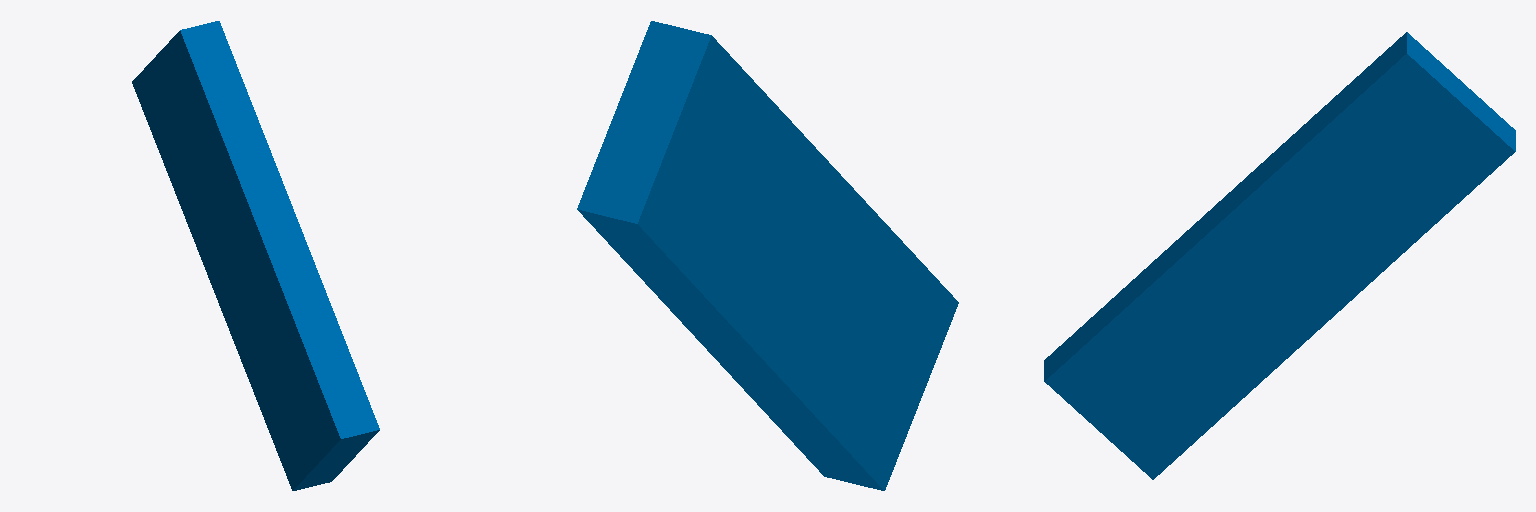
URDF robot description (panda):
<?xml version="1.0" ?>
<!-- =================================================================================== -->
<!-- |    This document was autogenerated by xacro from panda_arm_hand.urdf.xacro      | -->
<!-- |    EDITING THIS FILE BY HAND IS NOT RECOMMENDED                                 | -->
<!-- =================================================================================== -->
<robot name="panda" xmlns:xacro="http://www.ros.org/wiki/xacro">
  <link name="panda_link0">
    <visual>
      <geometry>
        <mesh filename="package:///meshes/visual/link0.dae"/>
      </geometry>
    </visual>
    <collision>
      <geometry>
        <mesh filename="package:///meshes/collision/link0.stl"/>
      </geometry>
    </collision>
    <inertial>
      <origin rpy="0 0 0" xyz="0 0 0"/>
      <mass value="2.8142028896"/>
      <inertia ixx="0.0129886979" ixy="0.0" ixz="0.0" iyy="0.0165355284" iyz="0" izz="0.0203311636"/>
    </inertial>
  </link>
  <link name="panda_link1">
    <visual>
      <geometry>
        <mesh filename="package:///meshes/visual/link1.dae"/>
      </geometry>
    </visual>
    <collision>
      <geometry>
        <mesh filename="package:///meshes/collision/link1.stl"/>
      </geometry>
    </collision>
    <inertial>
      <origin rpy="0 0 0" xyz="0 0 0"/>
      <mass value="2.3599995791"/>
      <inertia ixx="0.0186863903" ixy="0.0" ixz="0.0" iyy="0.0143789874" iyz="0" izz="0.00906812"/>
    </inertial>
  </link>
  <joint name="panda_joint1" type="revolute">
    <safety_controller k_position="100.0" k_velocity="40.0" soft_lower_limit="-2.8973" soft_upper_limit="2.8973"/>
    <origin rpy="0 0 0" xyz="0 0 0.333"/>
    <parent link="panda_link0"/>
    <child link="panda_link1"/>
    <axis xyz="0 0 1"/>
    <limit effort="87" lower="-2.8973" upper="2.8973" velocity="2.1750"/>
  </joint>
  <link name="panda_link2">
    <visual>
      <geometry>
        <mesh filename="package:///meshes/visual/link2.dae"/>
      </geometry>
    </visual>
    <collision>
      <geometry>
        <mesh filename="package:///meshes/collision/link2.stl"/>
      </geometry>
    </collision>
    <inertial>
      <origin rpy="0 0 0" xyz="0 0 0"/>
      <mass value="2.379518833"/>
      <inertia ixx="0.0190388734" ixy="0.0" ixz="0.0" iyy="0.0091429124" iyz="0" izz="0.014697537"/>
    </inertial>
  </link>
  <joint name="panda_joint2" type="revolute">
    <safety_controller k_position="100.0" k_velocity="40.0" soft_lower_limit="-1.7628" soft_upper_limit="1.7628"/>
    <origin rpy="-1.57079632679 0 0" xyz="0 0 0"/>
    <parent link="panda_link1"/>
    <child link="panda_link2"/>
    <axis xyz="0 0 1"/>
    <limit effort="87" lower="-1.7628" upper="1.7628" velocity="2.1750"/>
  </joint>
  <link name="panda_link3">
    <visual>
      <geometry>
        <mesh filename="package:///meshes/visual/link3.dae"/>
      </geometry>
    </visual>
    <collision>
      <geometry>
        <mesh filename="package:///meshes/collision/link3.stl"/>
      </geometry>
    </collision>
    <inertial>
      <origin rpy="0 0 0" xyz="0 0 0"/>
      <mass value="2.6498823337"/>
      <inertia ixx="0.0129300178" ixy="0.0" ixz="0.0" iyy="0.0150242121" iyz="0" izz="0.0142734598"/>
    </inertial>
  </link>
  <joint name="panda_joint3" type="revolute">
    <safety_controller k_position="100.0" k_velocity="40.0" soft_lower_limit="-2.8973" soft_upper_limit="2.8973"/>
    <origin rpy="1.57079632679 0 0" xyz="0 -0.316 0"/>
    <parent link="panda_link2"/>
    <child link="panda_link3"/>
    <axis xyz="0 0 1"/>
    <limit effort="87" lower="-2.8973" upper="2.8973" velocity="2.1750"/>
  </joint>
  <link name="panda_link4">
    <visual>
      <geometry>
        <mesh filename="package:///meshes/visual/link4.dae"/>
      </geometry>
    </visual>
    <collision>
      <geometry>
        <mesh filename="package:///meshes/collision/link4.stl"/>
      </geometry>
    </collision>
    <inertial>
      <origin rpy="0 0 0" xyz="0 0 0"/>
      <mass value="2.6948018744"/>
      <inertia ixx="0.0133874611" ixy="0.0" ixz="0.0" iyy="0.014514325" iyz="0" izz="0.0155175551"/>
    </inertial>
  </link>
  <joint name="panda_joint4" type="revolute">
    <safety_controller k_position="100.0" k_velocity="40.0" soft_lower_limit="-3.0718" soft_upper_limit="-0.0698"/>
    <origin rpy="1.57079632679 0 0" xyz="0.0825 0 0"/>
    <parent link="panda_link3"/>
    <child link="panda_link4"/>
    <axis xyz="0 0 1"/>
    <limit effort="87" lower="-3.0718" upper="-0.0698" velocity="2.1750"/>
  </joint>
  <link name="panda_link5">
    <visual>
      <geometry>
        <mesh filename="package:///meshes/visual/link5.dae"/>
      </geometry>
    </visual>
    <collision>
      <geometry>
        <mesh filename="package:///meshes/collision/link5.stl"/>
      </geometry>
    </collision>
    <inertial>
      <origin rpy="0 0 0" xyz="0 0 0"/>
      <mass value="2.9812816864"/>
      <inertia ixx="0.0325565705" ixy="0.0" ixz="0.0" iyy="0.0270660472" iyz="0" izz="0.0115023375"/>
    </inertial>
  </link>
  <joint name="panda_joint5" type="revolute">
    <safety_controller k_position="100.0" k_velocity="40.0" soft_lower_limit="-2.8973" soft_upper_limit="2.8973"/>
    <origin rpy="-1.57079632679 0 0" xyz="-0.0825 0.384 0"/>
    <parent link="panda_link4"/>
    <child link="panda_link5"/>
    <axis xyz="0 0 1"/>
    <limit effort="12" lower="-2.8973" upper="2.8973" velocity="2.6100"/>
  </joint>
  <link name="panda_link6">
    <visual>
      <geometry>
        <mesh filename="package:///meshes/visual/link6.dae"/>
      </geometry>
    </visual>
    <collision>
      <geometry>
        <mesh filename="package:///meshes/collision/link6.stl"/>
      </geometry>
    </collision>
    <inertial>
      <origin rpy="0 0 0" xyz="0 0 0"/>
      <mass value="1.1285806309"/>
      <inertia ixx="0.0026052565" ixy="0.0" ixz="0.0" iyy="0.0039897229" iyz="0" izz="0.0047048591"/>
    </inertial>
  </link>
  <joint name="panda_joint6" type="revolute">
    <safety_controller k_position="100.0" k_velocity="40.0" soft_lower_limit="-0.0175" soft_upper_limit="3.7525"/>
    <origin rpy="1.57079632679 0 0" xyz="0 0 0"/>
    <parent link="panda_link5"/>
    <child link="panda_link6"/>
    <axis xyz="0 0 1"/>
    <limit effort="12" lower="-0.0175" upper="3.7525" velocity="2.6100"/>
  </joint>
  <link name="panda_link7">
    <visual>
      <geometry>
        <mesh filename="package:///meshes/visual/link7.dae"/>
      </geometry>
    </visual>
    <collision>
      <geometry>
        <mesh filename="package:///meshes/collision/link7.stl"/>
      </geometry>
    </collision>
    <inertial>
      <origin rpy="0 0 0" xyz="0 0 0"/>
      <mass value="0.4052912465"/>
      <inertia ixx="0.0006316592" ixy="0.0" ixz="0.0" iyy="0.0006319639" iyz="0" izz="0.0010607721"/>
    </inertial>
  </link>
  <joint name="panda_joint7" type="revolute">
    <safety_controller k_position="100.0" k_velocity="40.0" soft_lower_limit="-2.8973" soft_upper_limit="2.8973"/>
    <origin rpy="1.57079632679 0 0" xyz="0.088 0 0"/>
    <parent link="panda_link6"/>
    <child link="panda_link7"/>
    <axis xyz="0 0 1"/>
    <limit effort="12" lower="-2.8973" upper="2.8973" velocity="2.6100"/>
  </joint>
  <link name="panda_link8"/>
  <joint name="panda_joint8" type="fixed">
    <origin rpy="0 0 0" xyz="0 0 0.107"/>
    <parent link="panda_link7"/>
    <child link="panda_link8"/>
    <axis xyz="0 0 0"/>
  </joint>
  <joint name="panda_hand_joint" type="fixed">
    <parent link="panda_link8"/>
    <child link="panda_hand"/>
    <origin rpy="0 0 -0.785398163397" xyz="0 0 0"/>
  </joint>
  <link name="panda_hand">
    <visual>
      <geometry>
        <mesh filename="package:///meshes/visual/hand.dae"/>
      </geometry>
    </visual>
    <collision>
      <geometry>
        <mesh filename="package:///meshes/collision/hand.stl"/>
      </geometry>
    </collision>
    <inertial>
      <origin rpy="0 0 0" xyz="0 0 0"/>
      <mass value="0.5583304799"/>
      <inertia ixx="0.0023394448" ixy="0.0" ixz="0.0" iyy="0.0005782786" iyz="0" izz="0.0021310296"/>
    </inertial>
  </link>
  <link name="panda_leftfinger">
    <visual>
      <geometry>
        <mesh filename="package:///meshes/visual/finger.dae"/>
      </geometry>
    </visual>
    <collision>
      <geometry>
        <mesh filename="package:///meshes/collision/finger.stl"/>
      </geometry>
    </collision>
    <inertial>
      <origin rpy="0 0 0" xyz="0 0 0"/>
      <mass value="0.0140552232"/>
      <inertia ixx="4.20413082650939E-06" ixy="0.0" ixz="0.0" iyy="3.90263687466755E-06" iyz="0" izz="1.33474964199095E-06"/>
    </inertial>
  </link>
  <link name="panda_rightfinger">
    <visual>
      <origin rpy="0 0 3.14159265359" xyz="0 0 0"/>
      <geometry>
        <mesh filename="package:///meshes/visual/finger.dae"/>
      </geometry>
    </visual>
    <collision>
      <origin rpy="0 0 3.14159265359" xyz="0 0 0"/>
      <geometry>
        <mesh filename="package:///meshes/collision/finger.stl"/>
      </geometry>
    </collision>
    <inertial>
      <origin rpy="0 0 0" xyz="0 0 0"/>
      <mass value="0.0140552232"/>
      <inertia ixx="4.20413082650939E-06" ixy="0.0" ixz="0.0" iyy="3.90263687466755E-06" iyz="0" izz="1.33474964199095E-06"/>
    </inertial>
  </link>
  <joint name="panda_finger_joint1" type="prismatic">
    <parent link="panda_hand"/>
    <child link="panda_leftfinger"/>
    <origin rpy="0 0 0" xyz="0 0 0.0584"/>
    <axis xyz="0 1 0"/>
    <limit effort="20" lower="0.0" upper="0.04" velocity="0.2"/>
  </joint>
  <joint name="panda_finger_joint2" type="prismatic">
    <parent link="panda_hand"/>
    <child link="panda_rightfinger"/>
    <origin rpy="0 0 0" xyz="0 0 0.0584"/>
    <axis xyz="0 -1 0"/>
    <limit effort="20" lower="0.0" upper="0.04" velocity="0.2"/>
    <mimic joint="panda_finger_joint1"/>
  </joint>


      <!-- <origin rpy="0 0 3.14159265359" xyz="0 0 0"/> -->

  <link name="board">
    <visual>
      <geometry>
        <box size="0.03 0.1 0.01" />
        <!-- <mesh filename="package://board/ArUco_DICT_7X7_50_5_7_50_10_0.obj"/> -->
        <!-- <mesh filename="package:///meshes/collision/finger.stl"/> -->
      </geometry>
    </visual>
  </link>

  <joint name="panda_j" type="fixed">
    <!-- <origin rpy="0 1.57 0" xyz="0.1 0 0.0"/> -->
    <origin rpy="0 0 0" xyz="0.2 0.1 0.0"/>
    <parent link="panda_hand"/>
    <child link="board"/>
    <axis xyz="0 0 0"/>
  </joint>
  
  
</robot>

--- Facts derived from the render (not from the file) ---
Views: 3 orthographic renders of the robot side by side, from view 1: azimuth 30°, elevation 25°; view 2: azimuth 150°, elevation 25°; view 3: azimuth 270°, elevation 25°.
Robot: panda — 13 links, 12 joints (7 revolute, 2 prismatic, 3 fixed); root link panda_link0; default pose: all joints at 0 but 1 set to mid-range because 0 is outside their limits (panda_joint4 = -1.57).
Visible links, largest first — view 1: board; view 2: board; view 3: board.
Link boxes in pixels (<box>): board: <box>132,21,379,490</box>; board: <box>577,21,958,490</box>; board: <box>1044,32,1515,479</box>.
Bounding box of the posed robot: 0.01 × 0.0919 × 0.0919 m (x, y, z).
Meshes: 10 distinct files referenced, 0 mesh visuals loaded (none loaded); not drawn: 11 (reference not matched to a file when rendering).